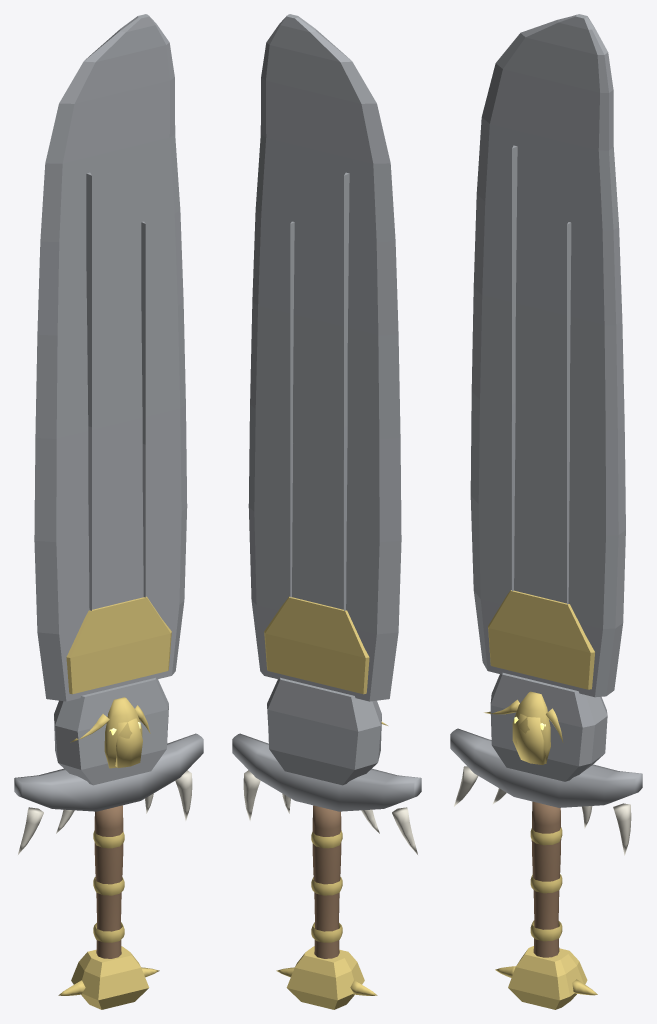
The model's file is wpn_dragonslayer.glb.
The picture shows the model from 3 angles, left to right: view 1: azimuth 30°, elevation 25°; view 2: azimuth 150°, elevation 25°; view 3: azimuth 330°, elevation 25°; orthographic projection.
Visible parts, largest first — view 1: wpn_dragonslayer; view 2: wpn_dragonslayer; view 3: wpn_dragonslayer.
Boxes of the visible parts, box(x1,y1,x2,y2) form: wpn_dragonslayer: box(14, 14, 203, 1009); wpn_dragonslayer: box(232, 14, 421, 1009); wpn_dragonslayer: box(450, 14, 642, 1009).
Size of the model in its own units: 0.3713 by 1.9 by 0.123.
